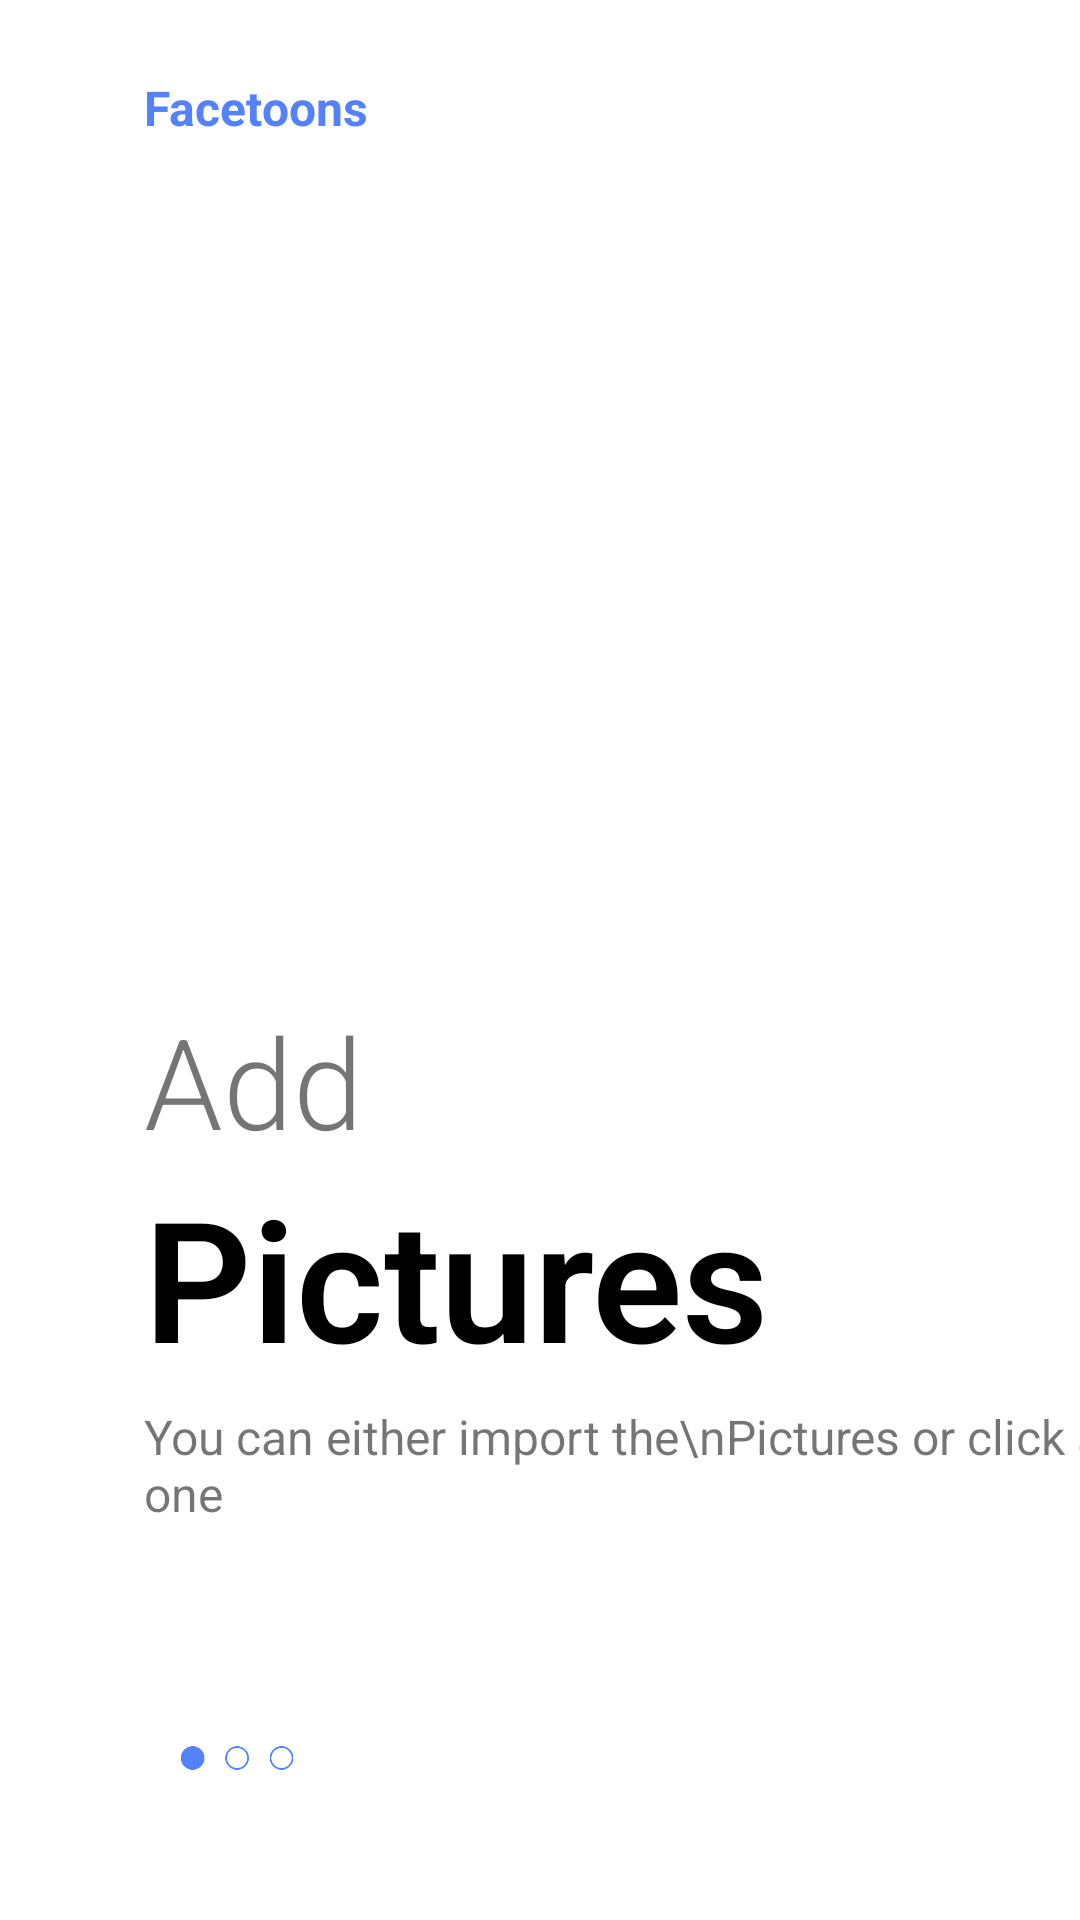

Locate icon controls on the screen. Image size 1080*1920, boxes as BBox(x1, y1, x2, y2).
tab: BBox(181, 1746, 293, 1770)
